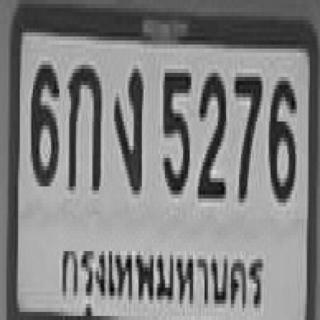A01: (66, 61, 101, 186)
A07: (112, 63, 142, 188)
N02: (196, 69, 224, 195)
N05: (162, 67, 190, 188)
N06: (267, 73, 295, 198), (30, 59, 58, 180)
N07: (232, 69, 260, 198)
P04: (56, 231, 264, 320)
